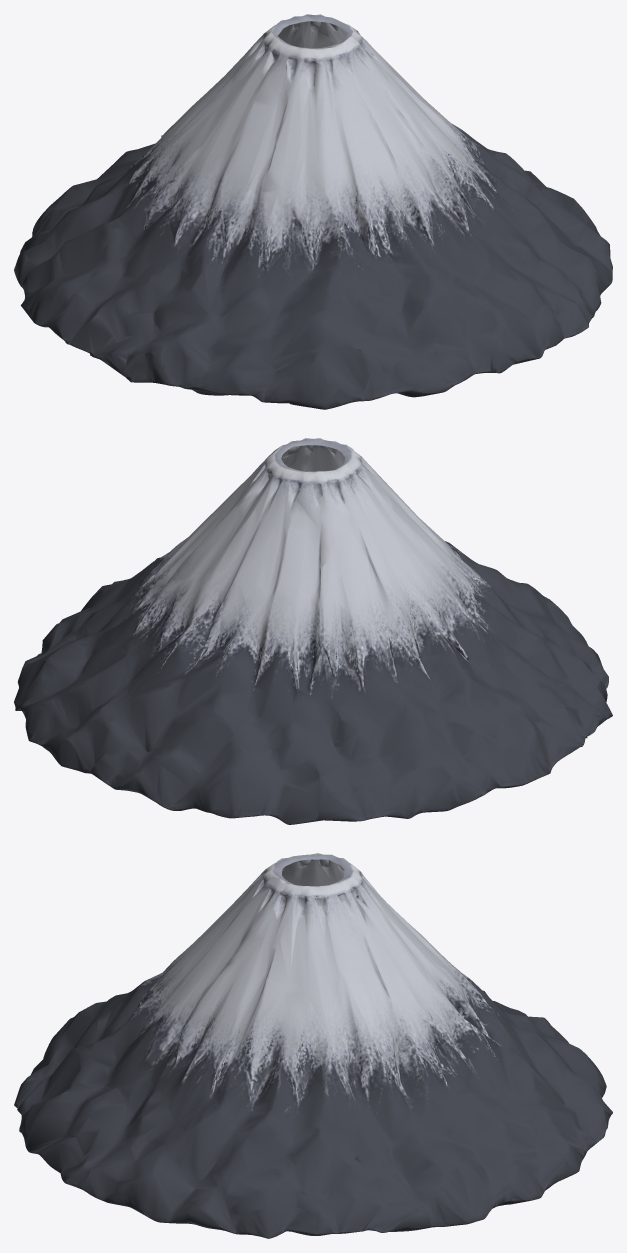
File: isluga_cima.glb
3 views of the same model, one above another, from view 1: azimuth 30°, elevation 25°; view 2: azimuth 150°, elevation 25°; view 3: azimuth 270°, elevation 25° (orthographic).
Parts seen in each view (by area): view 1: isluga_cima; view 2: isluga_cima; view 3: isluga_cima.
Boxes of the visible parts, x1,y1,x2,y2 form: isluga_cima: (14,14,612,409); isluga_cima: (14,438,612,824); isluga_cima: (14,853,612,1238).
Size of what is drawn, in the model's own units: 200 by 93.54 by 200.
1 material, 1 textured.
